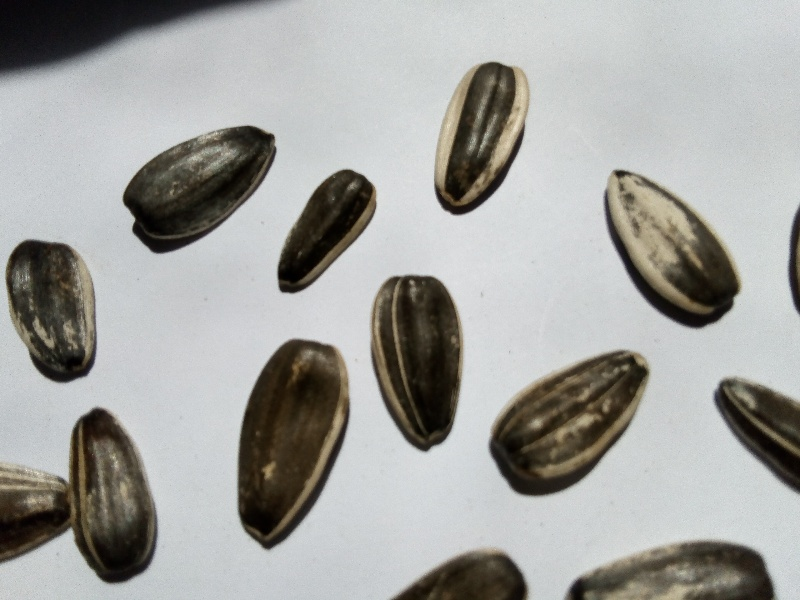girasol: (225, 327, 364, 561), (485, 333, 660, 503), (592, 157, 749, 331), (416, 49, 551, 220), (117, 111, 281, 250), (364, 263, 469, 456), (1, 232, 109, 391)
